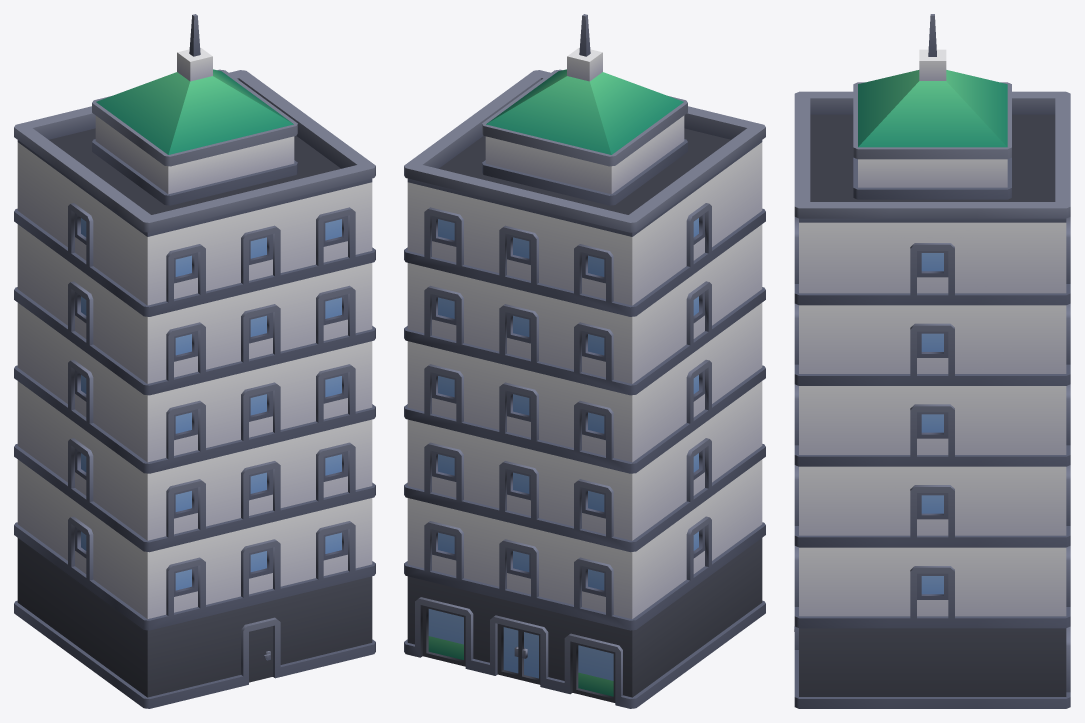
The model's file is city_12.fbx.
3 views of the same model, side by side, from view 1: azimuth 30°, elevation 25°; view 2: azimuth 150°, elevation 25°; view 3: azimuth 270°, elevation 25° (orthographic). The views are drawn at different scales.
Parts seen in each view (by area): view 1: city_12; view 2: city_12; view 3: city_12.
Boxes of the visible parts, bbox=[...] form: city_12: bbox=[14, 14, 375, 708]; city_12: bbox=[404, 14, 765, 708]; city_12: bbox=[794, 14, 1070, 708].
Size of the model in its own units: 1.24 by 3.15 by 1.24.
Materials: 1 (1 with a texture image).
